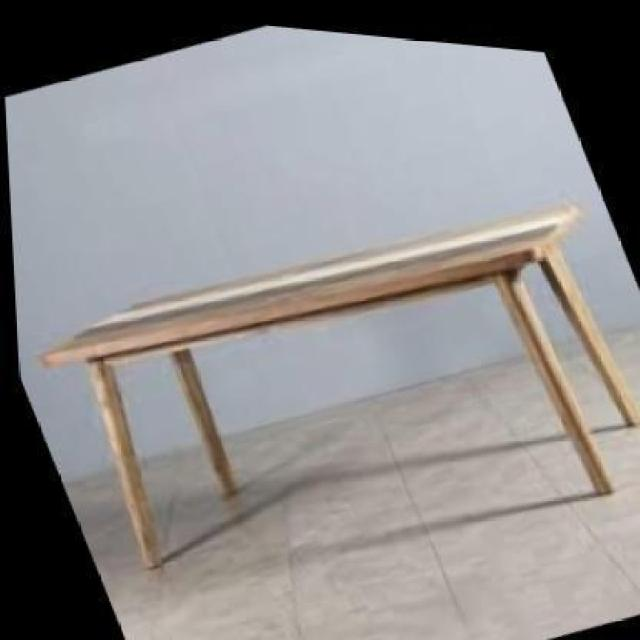tables: (37, 202, 638, 569)
